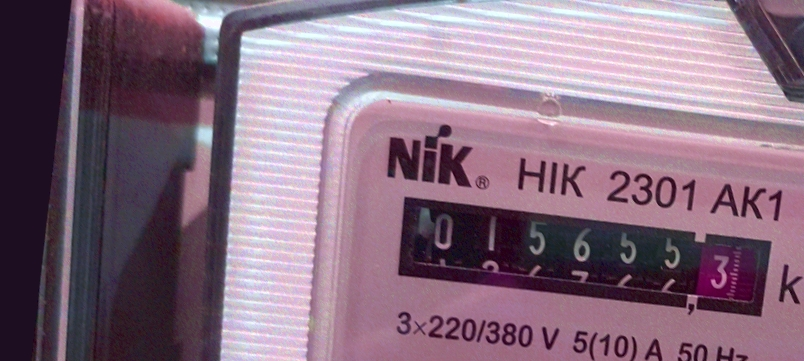0: (427, 209, 456, 253)
1: (479, 214, 502, 255)
3: (706, 253, 729, 291)
5: (521, 220, 549, 258), (614, 232, 640, 266), (660, 237, 682, 271)
6: (567, 226, 594, 264)
screen: (378, 180, 786, 334)
